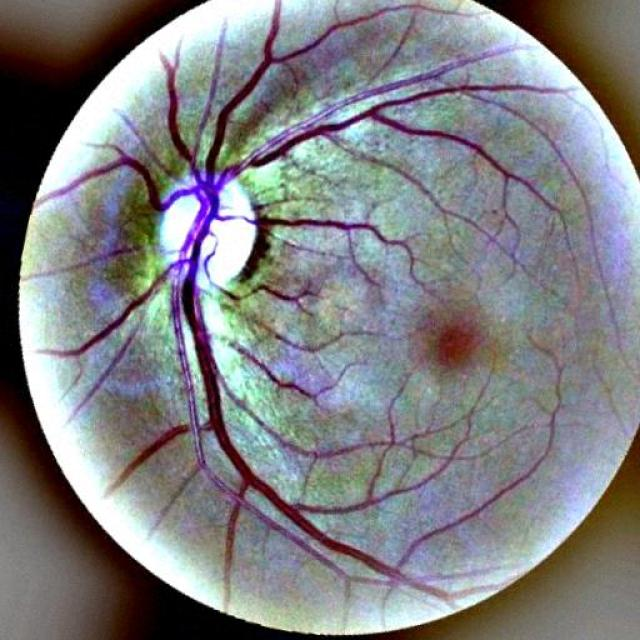Macula: (415, 310, 488, 382)
Nerves: (35, 25, 509, 606)
Optic Disk: (141, 159, 276, 315)
